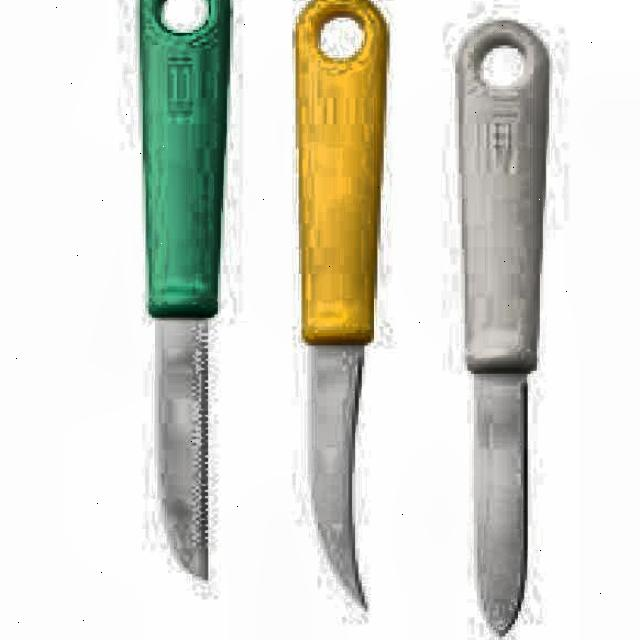knife: (293, 0, 385, 614), (454, 17, 544, 640), (131, 0, 226, 589)
